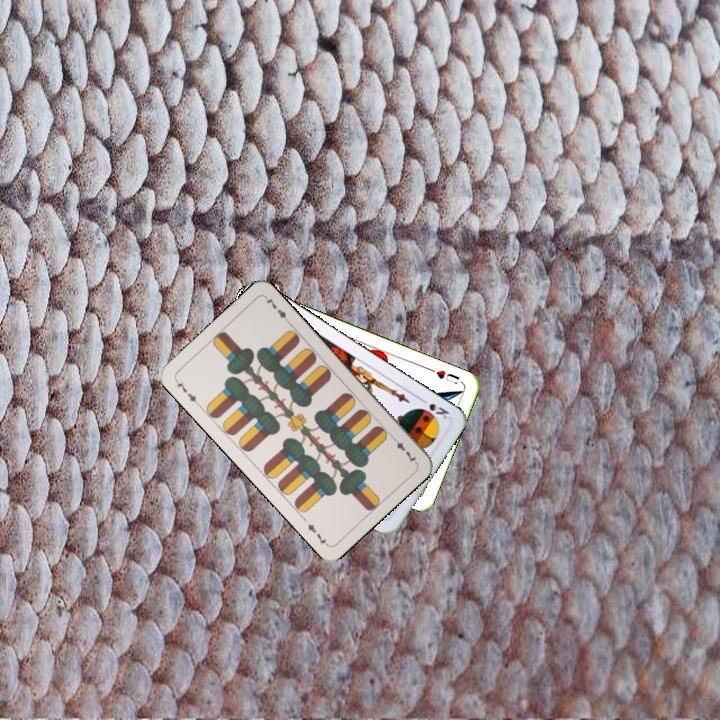E7: (388, 433, 419, 466), (171, 376, 202, 409)
HU: (432, 366, 462, 387)
SK: (415, 394, 452, 422)
